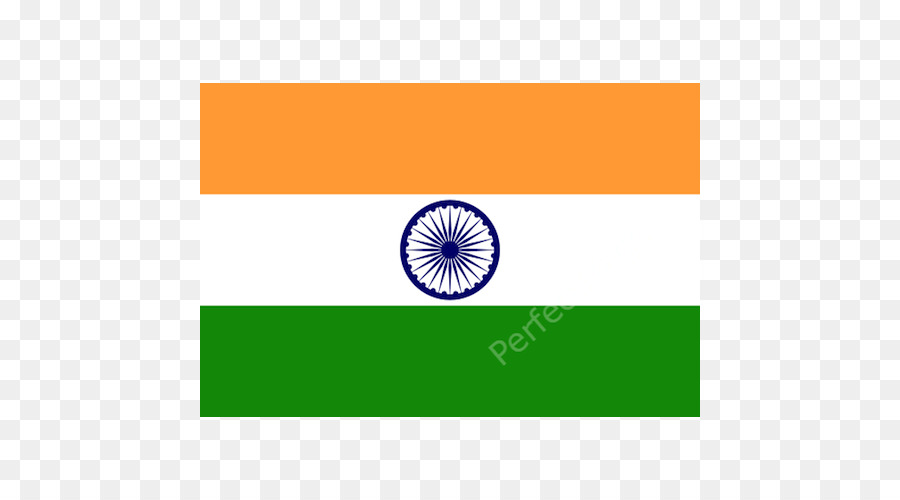flag: (202, 83, 700, 416)
